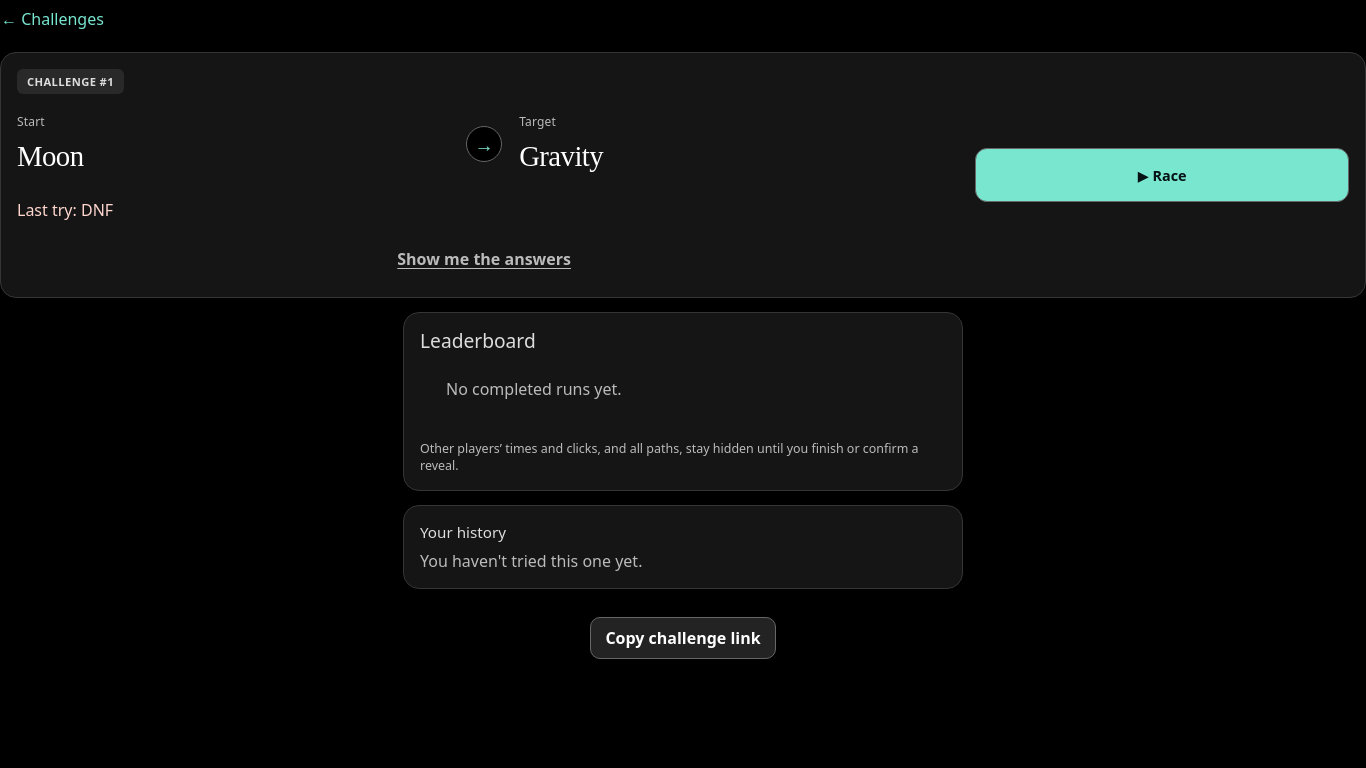
"I gave up" affordance + solution view (owner spec, 2026-08-02) › offers an explanation when the account has no qualifying DNF on this challenge
Click the button "Show me the answers" at [484, 259], box [17,237,951,281]
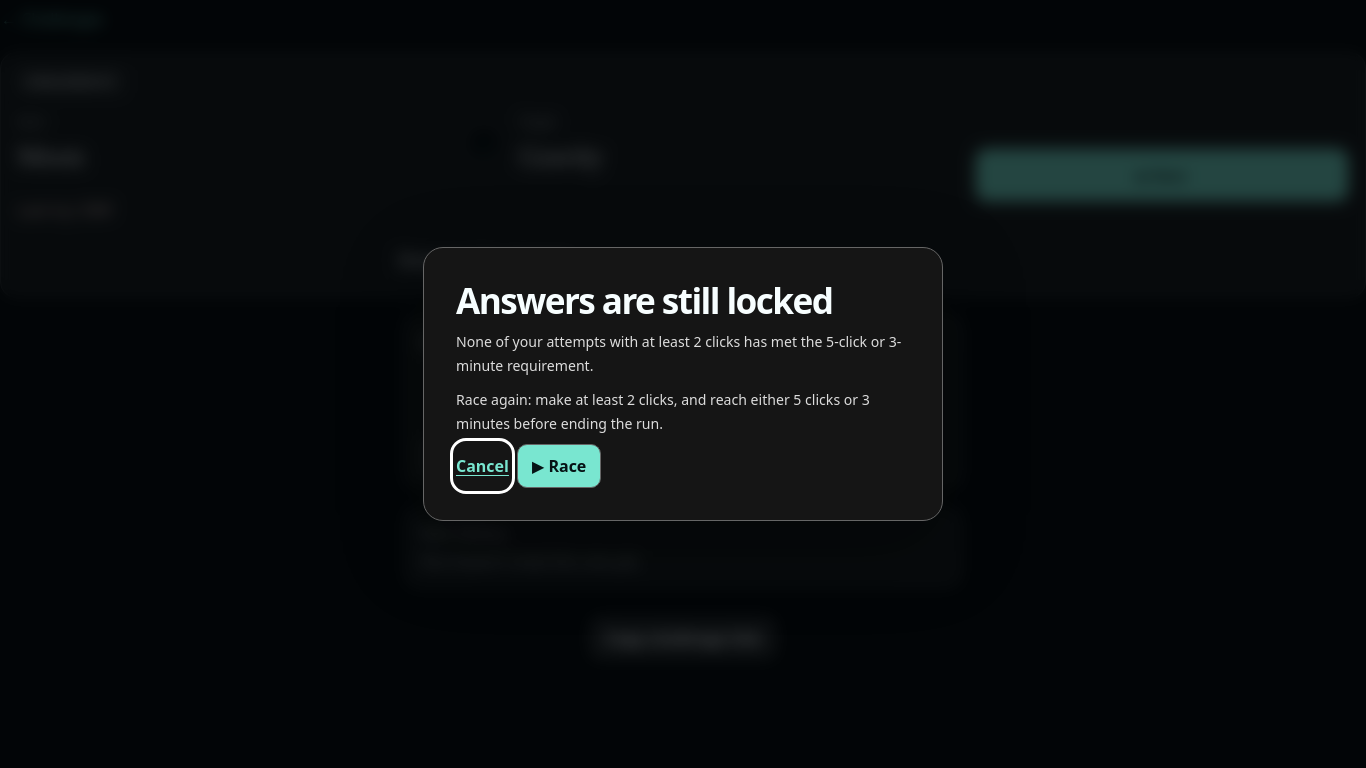
Expected: the dialog "Answers are still locked" is shown, [423,247,943,521]
Expected: the text "None of your attempts with at least 2 clicks has met" is shown, [456,332,901,375]
